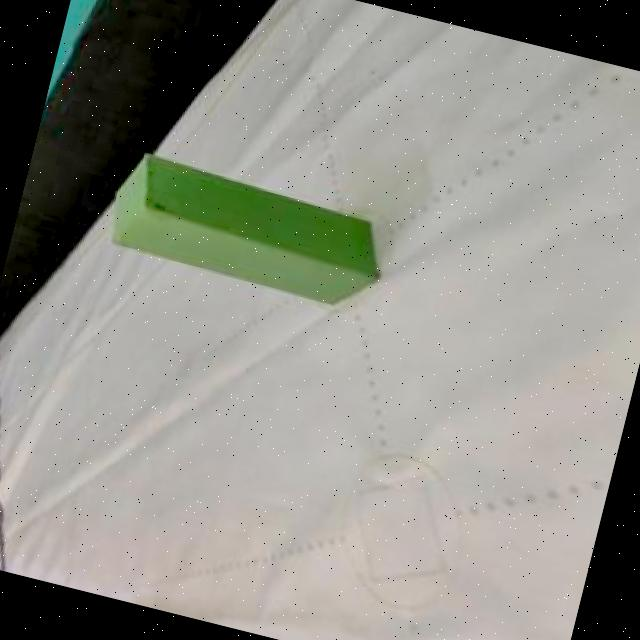greenbox: (98, 143, 394, 316)
